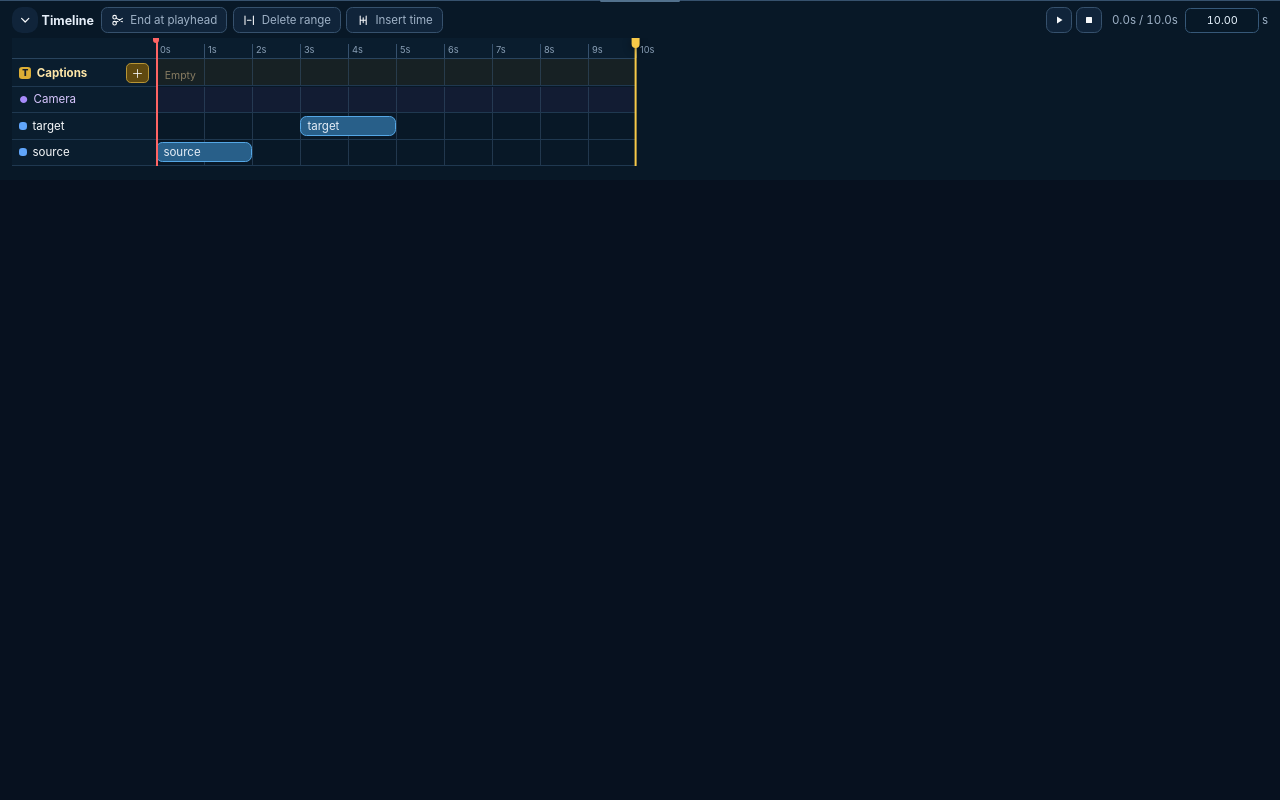
Test: ObjectTimeline › closes the add menu when clicking outside
Right-click the element with class "object-timeline-grid" at [324, 102], box x1=12 y1=38 x2=636 y2=166
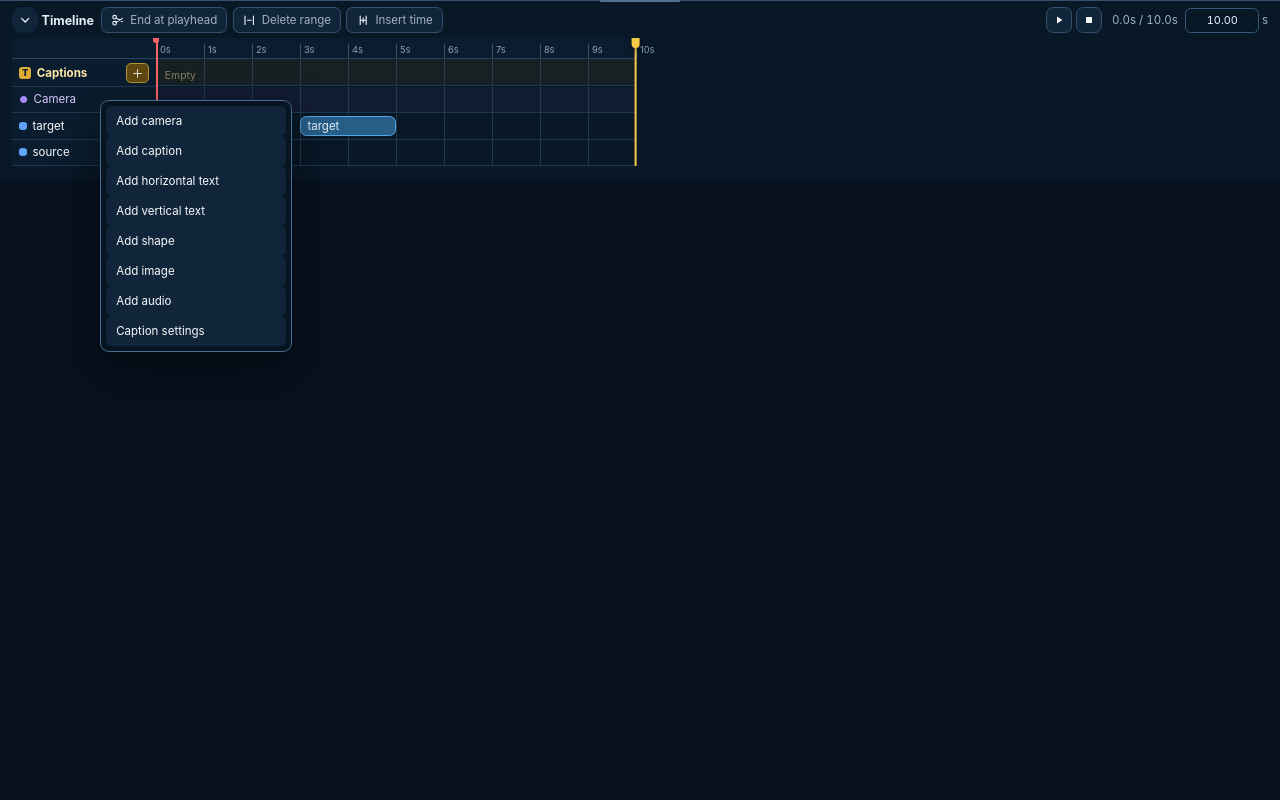
Expected: the menu is shown, x1=100 y1=100 x2=292 y2=352
Press the mouse on the element that starts with "Timeline" at [640, 400], box x1=0 y1=0 x2=1279 y2=799
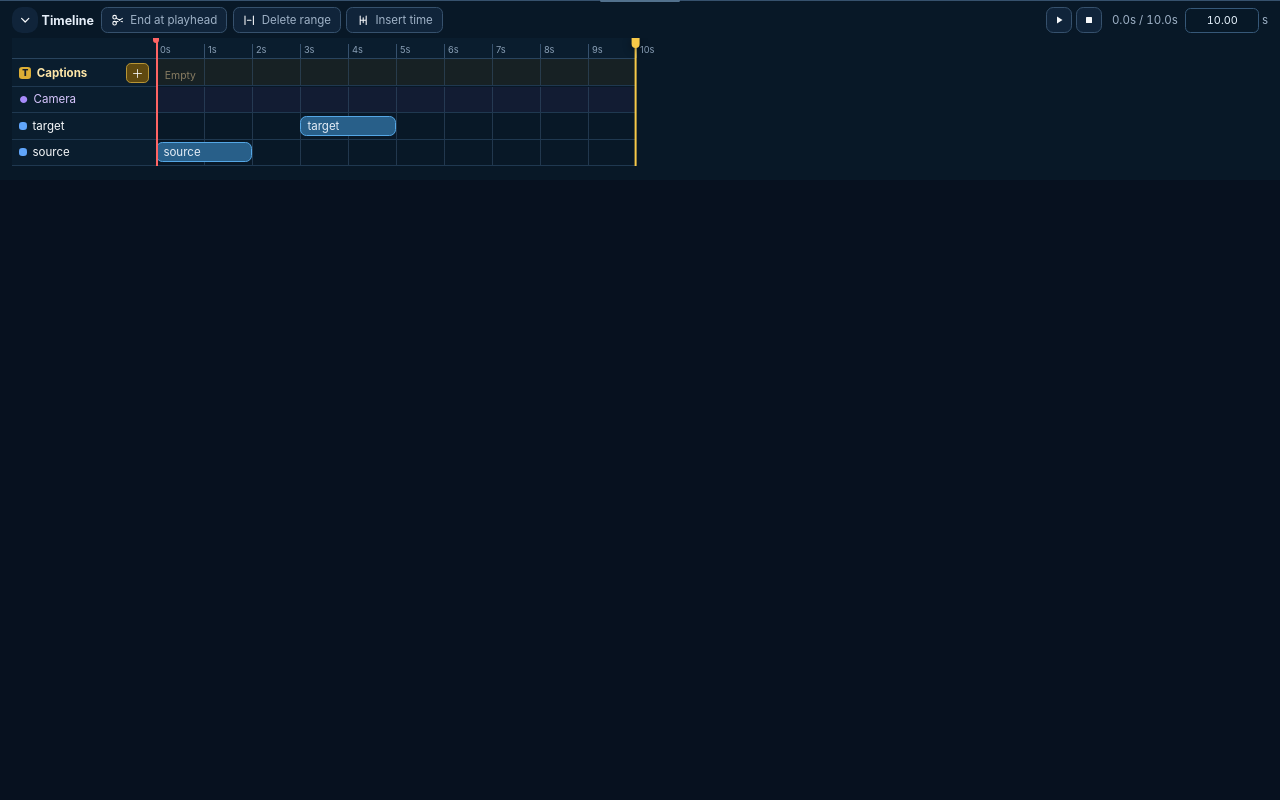
Expected: the menu is gone
